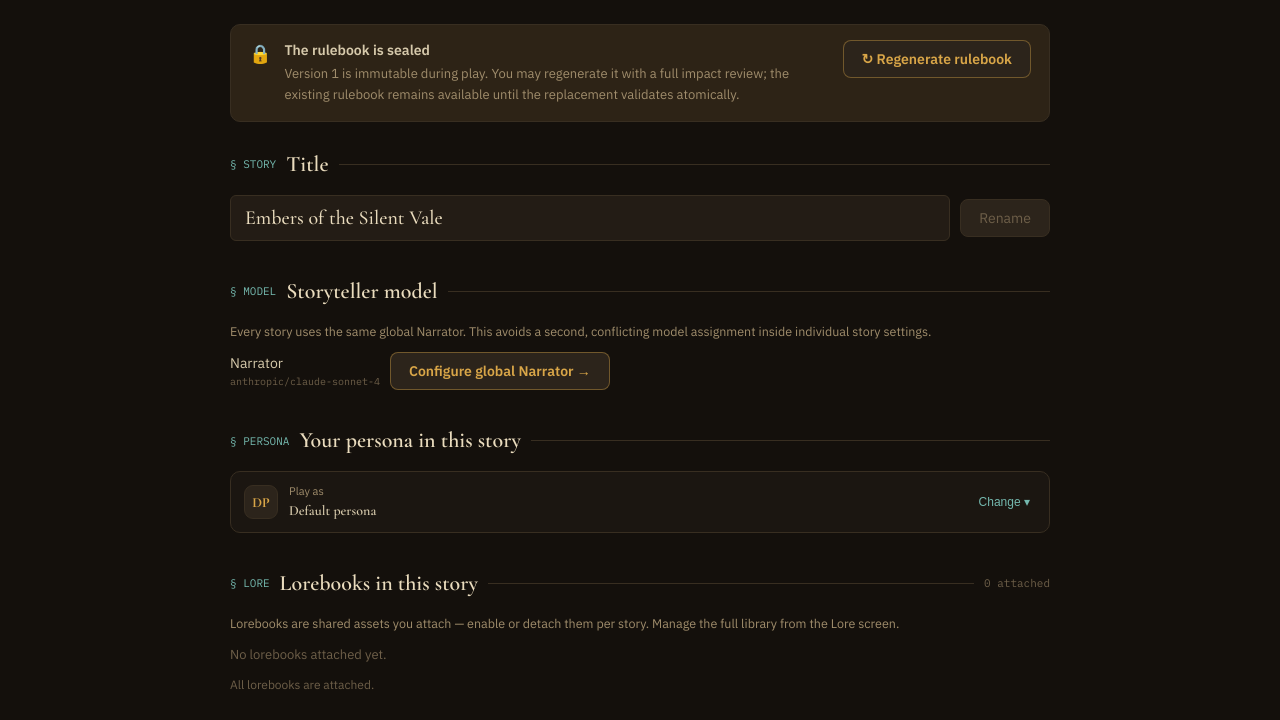
Test: StorySettings › keeps the current rulebook visible after a failed replacement and retries from its checkpoint
Replace the text in the field named "Story title" with "Unsaved working title" at (590, 218), box top-left (230, 195), bottom-right (950, 241)
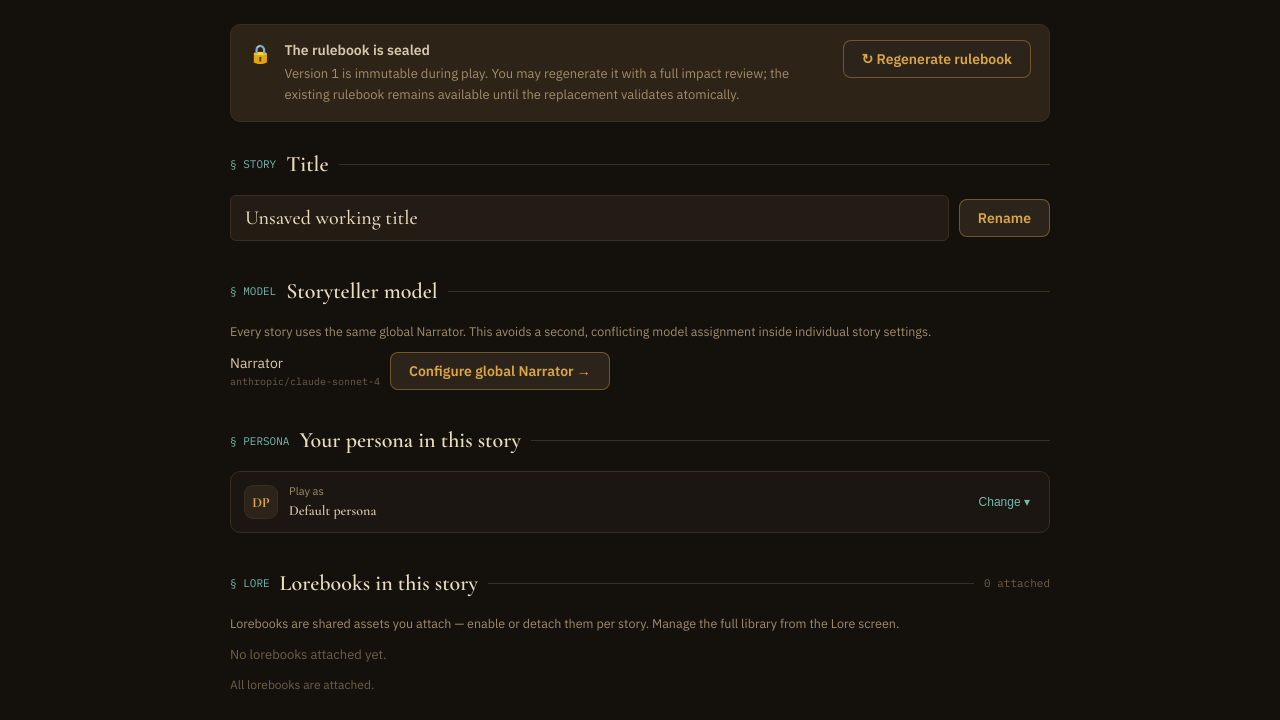
Click the button "↻ Regenerate rulebook" at (937, 59), box top-left (842, 40), bottom-right (1031, 78)
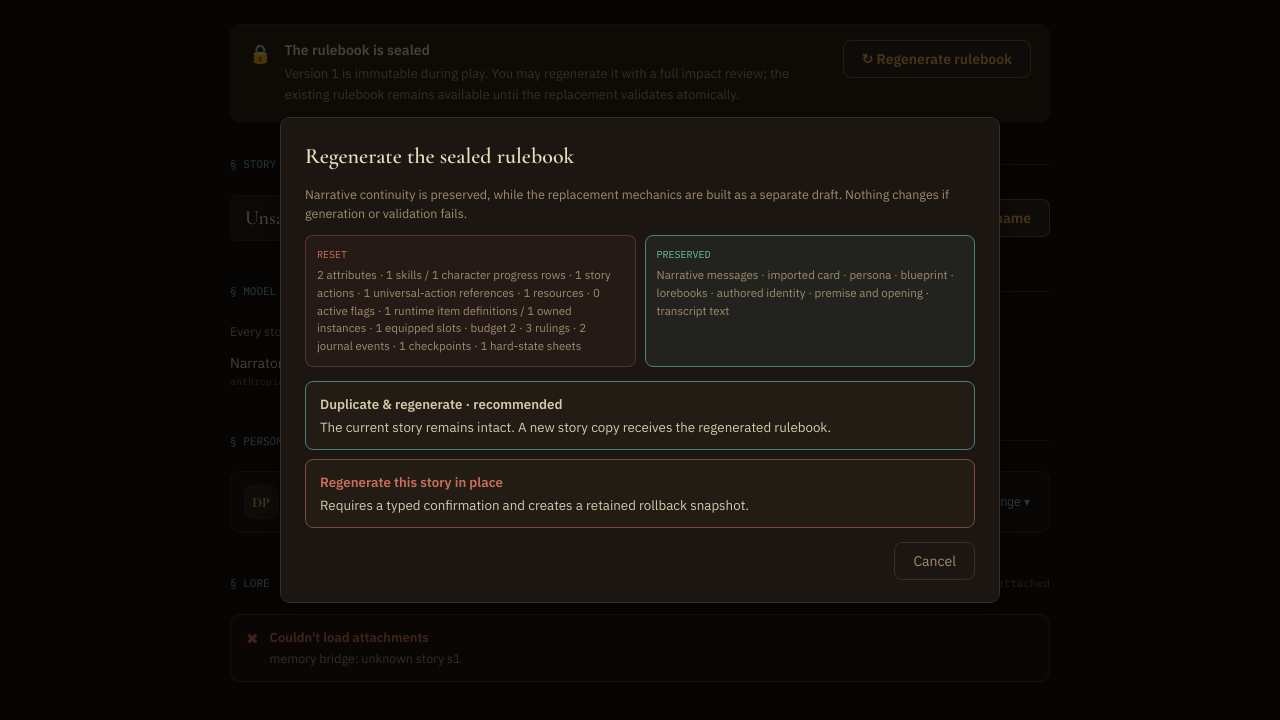
Click the button "Duplicate & regenerate" at (640, 416), box top-left (305, 381), bottom-right (975, 450)
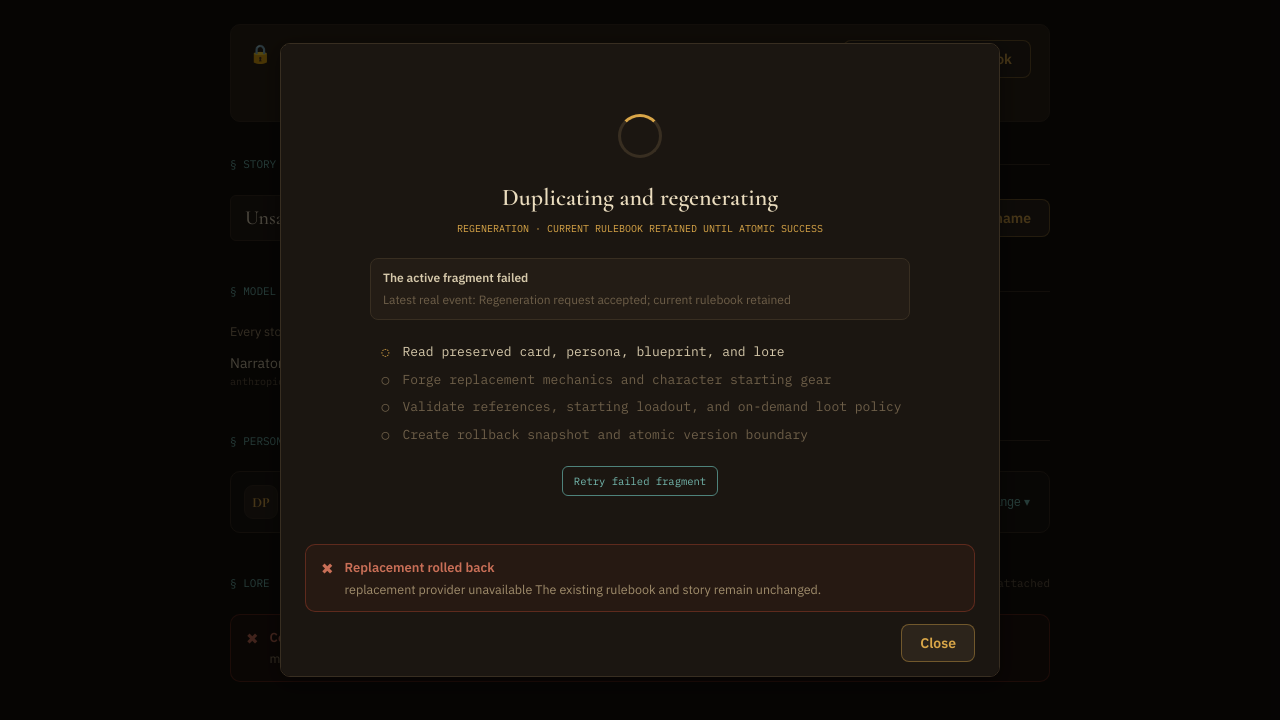
Result: the text "Replacement rolled back" is shown at top-left (345, 559), bottom-right (494, 576)
Click the button "Retry failed fragment" at (640, 481), box top-left (562, 466), bottom-right (718, 496)
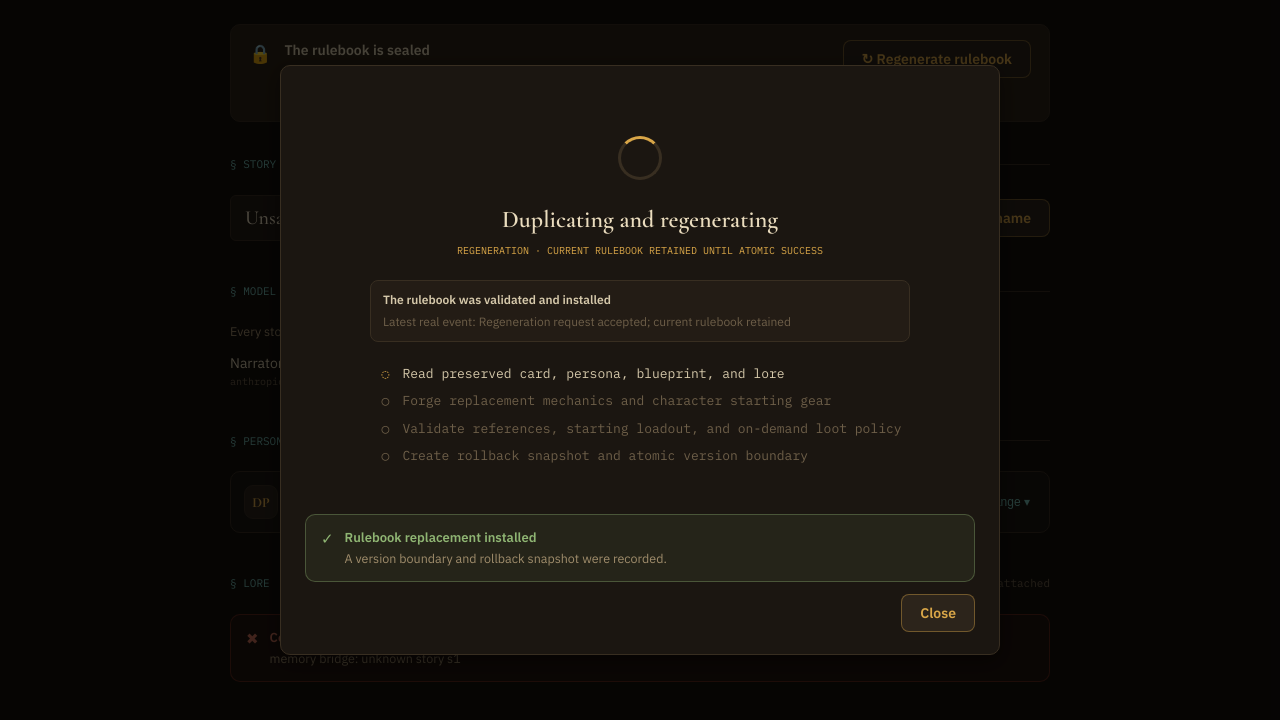
Result: the text "Rulebook replacement installed" is shown at top-left (345, 529), bottom-right (536, 546)
